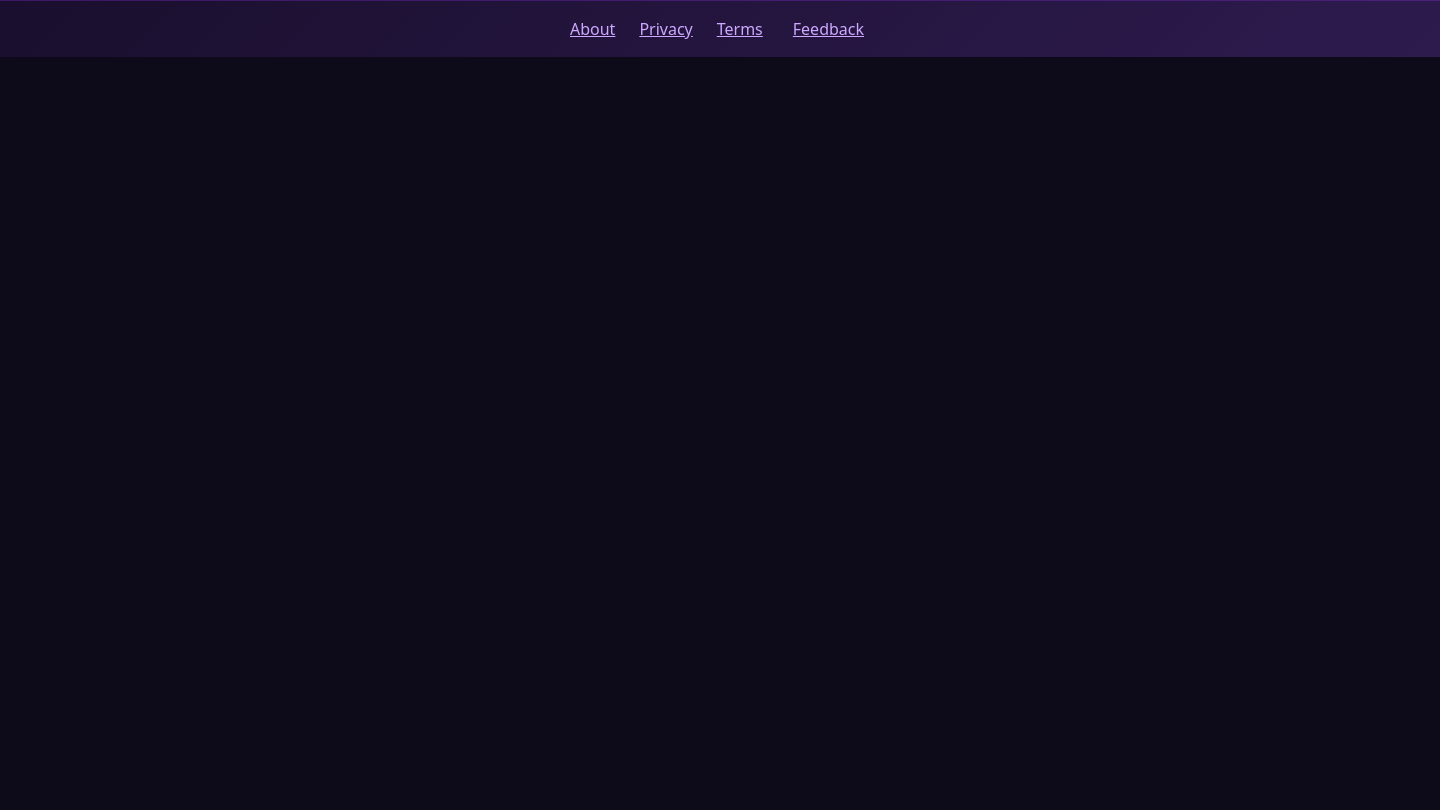
Test: SiteFeedback › opens site-feedback copy with mailto and both Discord usernames
Click the button "Feedback": (828, 29) [787,17,870,41]
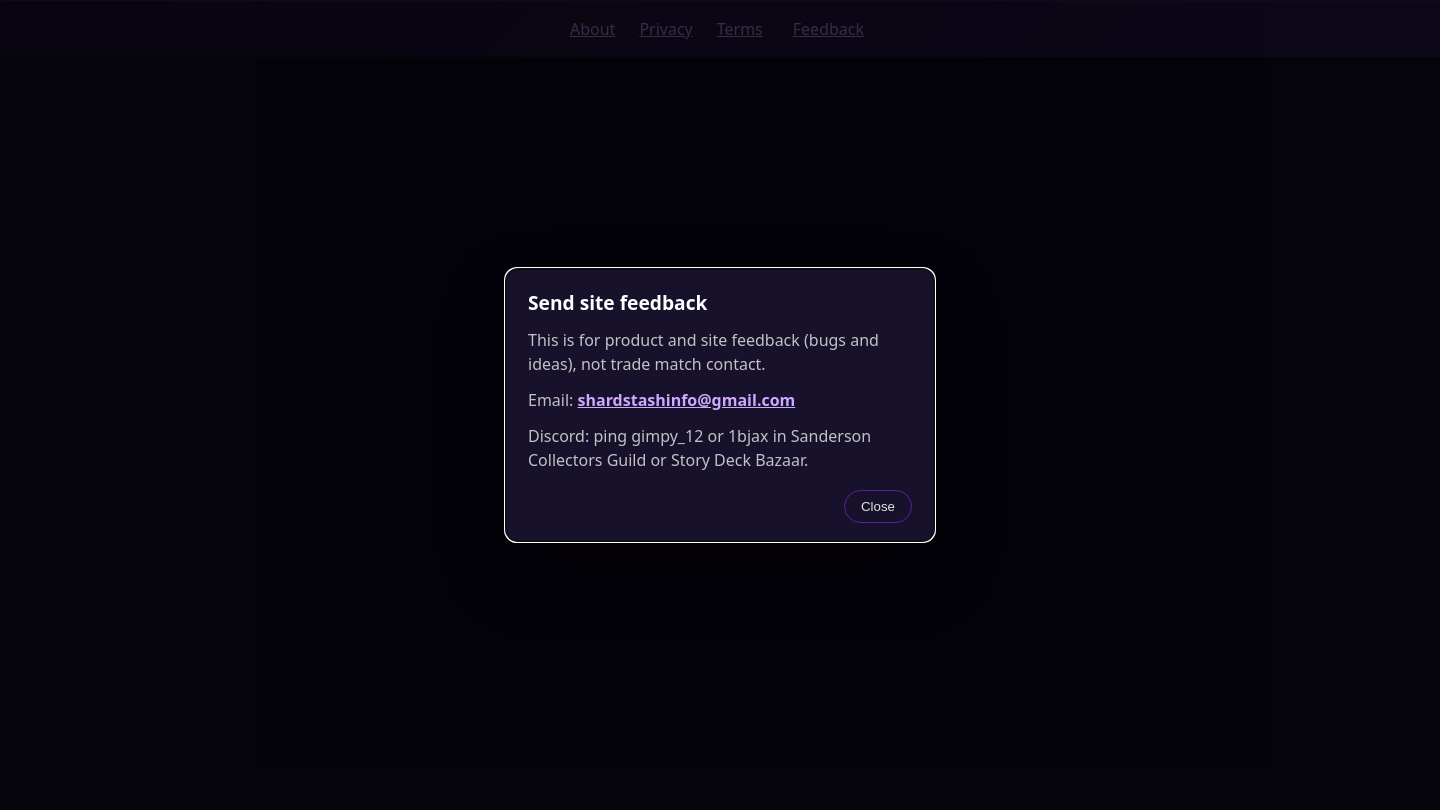
Now the dialog "Send site feedback" shows "product and site feedback", box [528,329,879,375]
Now the dialog "Send site feedback" shows "not trade match contact", box [528,329,879,375]
Now the dialog "Send site feedback" shows "Sanderson Collectors Guild", box [528,425,871,471]
